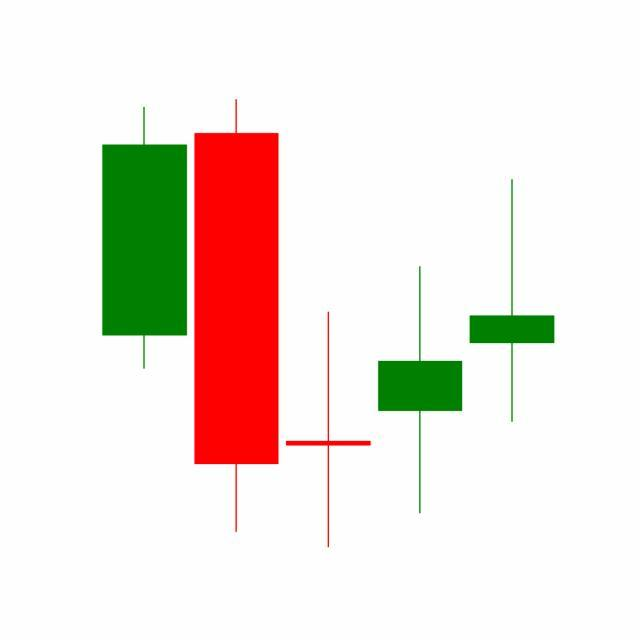Unique 3 River: (190, 99, 467, 549)
